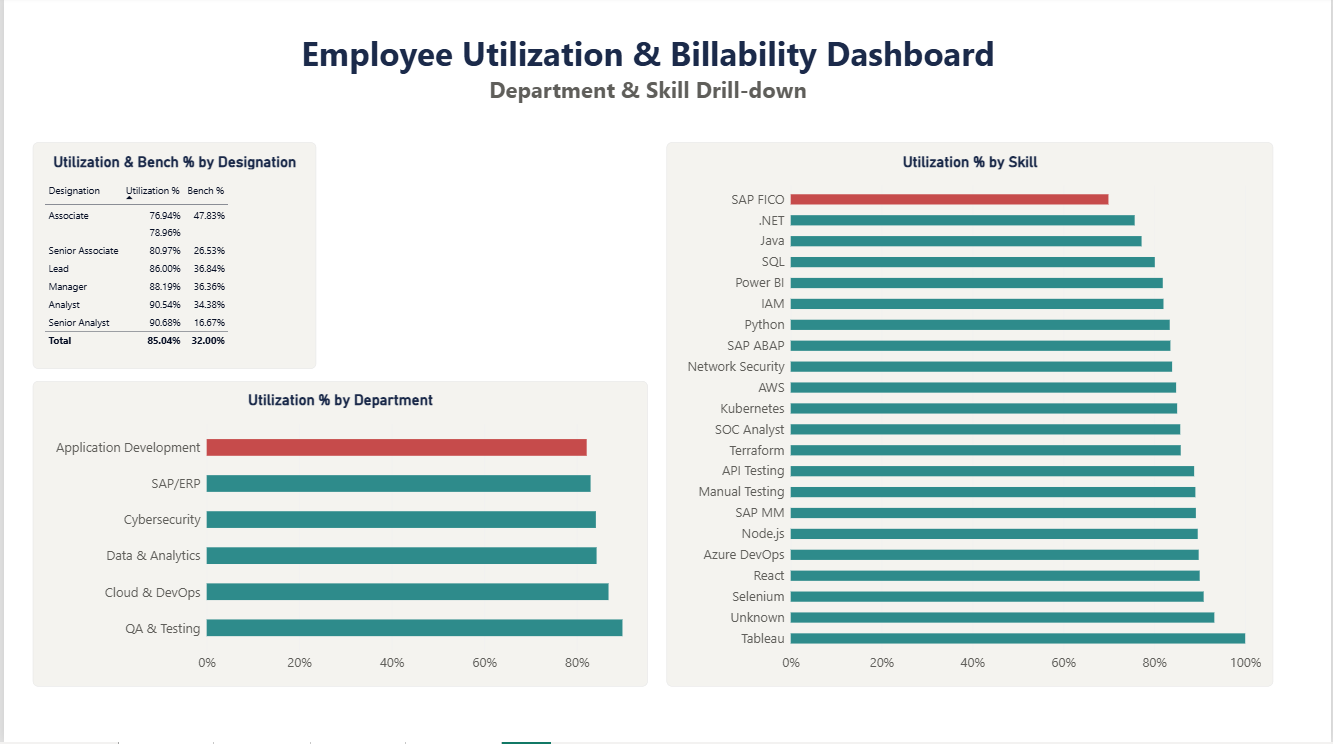

What the dashboard file says about the page in this screenshot:
{"tool":"powerbi","page":{"name":"Page 2","canvas":[1920,1080],"ordinal":1},"visuals":[{"type":"textbox","box":[42.6,48.1,1777.8,137],"z":0},{"type":"clusteredBarChart","title":"Utilization % by Department","fields":{"Category":["Employee.Department"],"Y":["Measure.Utilization %"]},"box":[42,558,890,442],"z":1000},{"type":"clusteredBarChart","title":"Utilization % by Skill","fields":{"Category":["Employee.Skill"],"Y":["Measure.Utilization %"]},"box":[960,212,878,788],"z":2000},{"type":"tableEx","title":"Utilization & Bench % by Designation","fields":{"Values":["Employee.Designation","Measure.Utilization %","Measure.Bench %"]},"box":[42,212,410,328],"z":3000}]}

Visuals, with their boxes in screenshot pixels (x1, y1, x2, y2), scaled from the page's 1920x1080 canvas onto the 1333x744 screenshot:
textbox: <box>30,33,1264,128</box>
"Utilization % by Department" clusteredBarChart: <box>29,384,647,689</box>
"Utilization % by Skill" clusteredBarChart: <box>666,146,1276,689</box>
"Utilization & Bench % by Designation" tableEx: <box>29,146,314,372</box>
